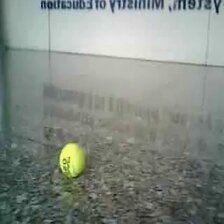tennis: (59, 143, 87, 179)
